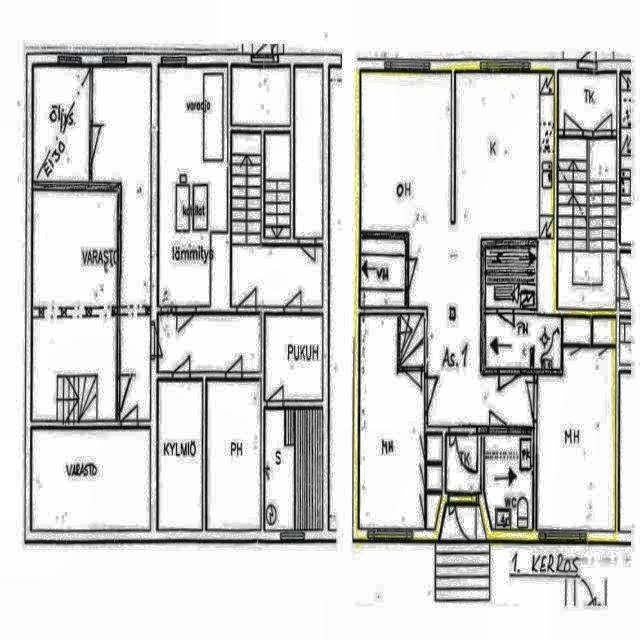room: (31, 191, 118, 421), (537, 317, 616, 530), (358, 313, 426, 530), (31, 428, 151, 531), (206, 379, 261, 529), (157, 381, 203, 529), (33, 68, 89, 181), (158, 314, 261, 372), (264, 314, 322, 400), (293, 69, 322, 238), (483, 435, 533, 529), (231, 68, 291, 126), (446, 436, 481, 491)
